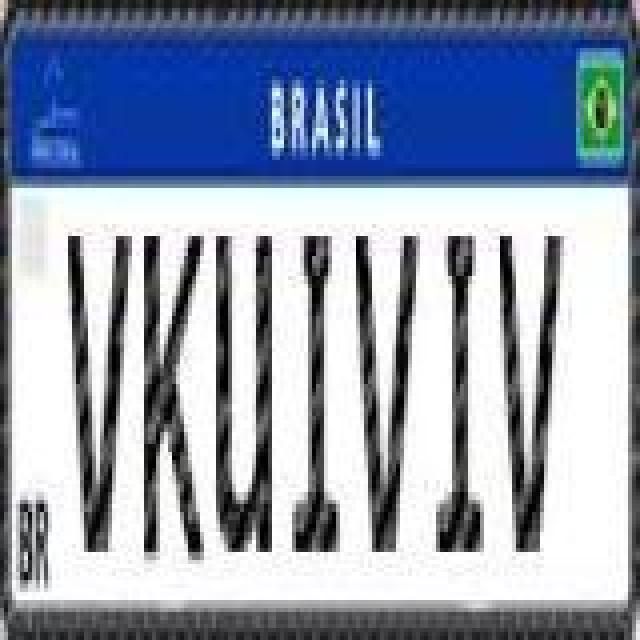I: (290, 230, 342, 554), (430, 230, 482, 554)
K: (144, 232, 208, 568)
U: (214, 230, 274, 554)
V: (66, 230, 134, 554), (354, 230, 422, 554), (494, 230, 562, 554)
